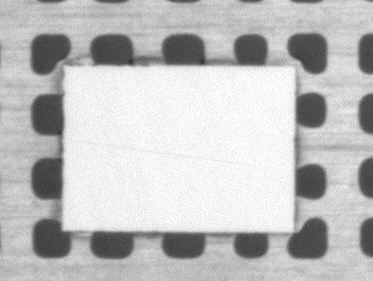DIE_CRACK: (92, 105, 335, 124)
